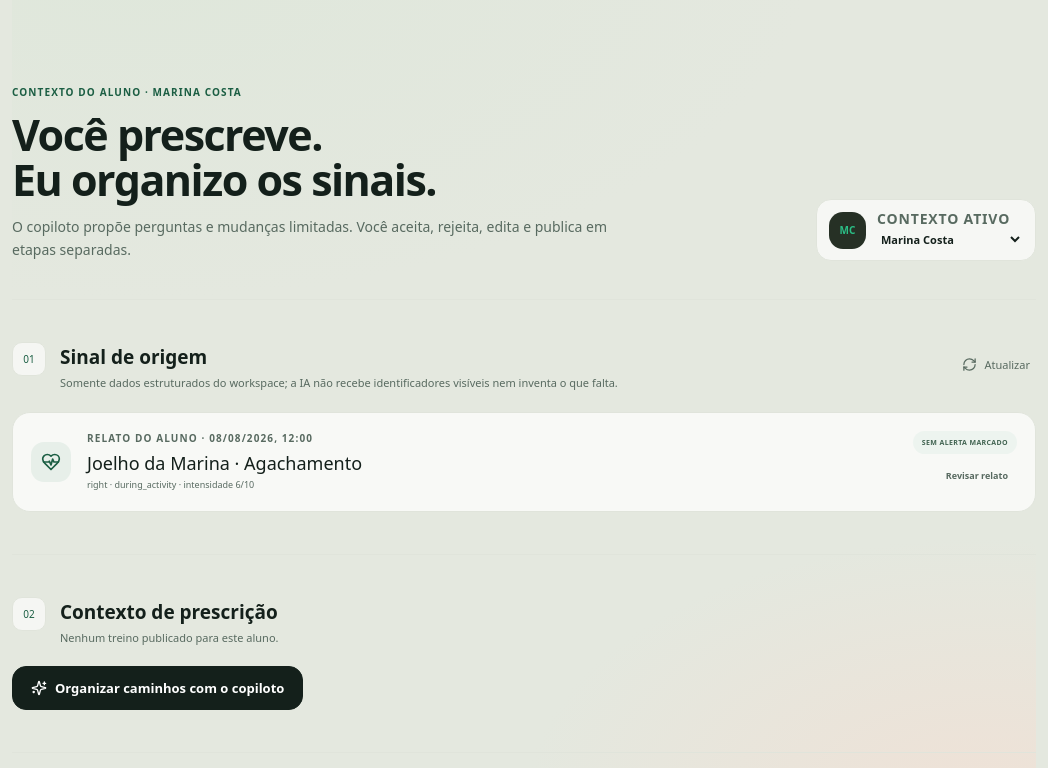
live trainer Copilot signal boundary › uses the unresolved lifecycle queue once and switches students without reloading the roster
Check: the heading "Joelho da Marina · Agachamento" is shown, box [87,451,362,475]
Step 1. Select "Bianca Rocha" in the dropdown → (950, 240), box [877,228,1023,251]
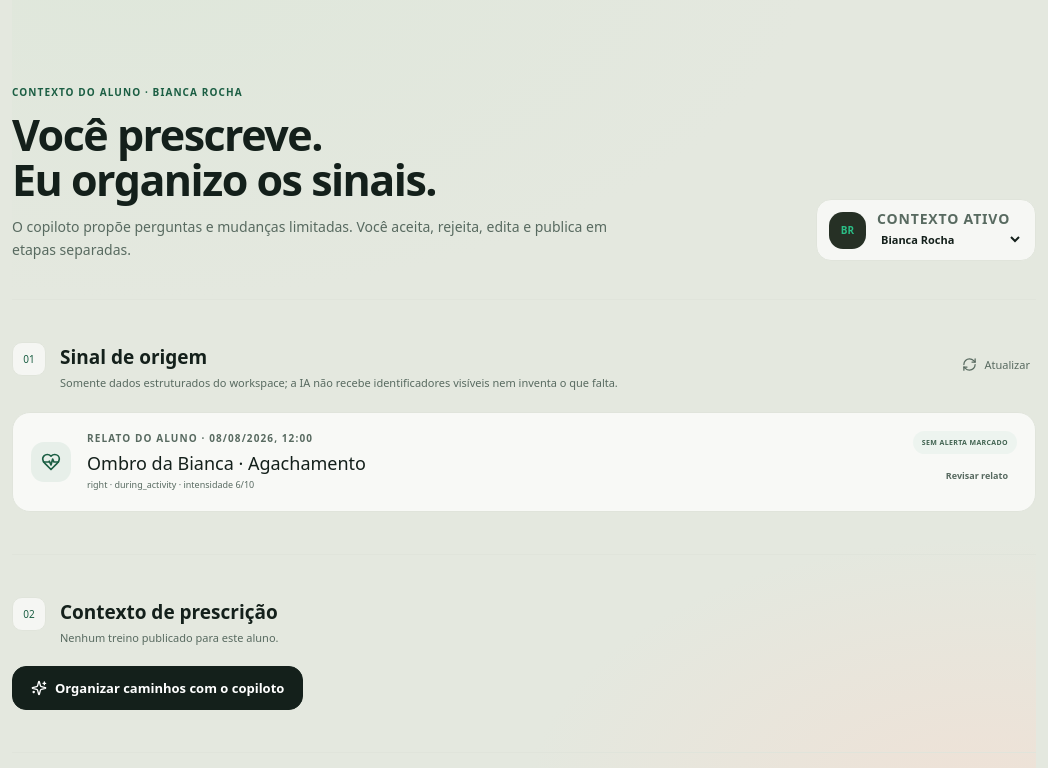
Check: the heading "Ombro da Bianca · Agachamento" is shown, box [87,451,366,475]
